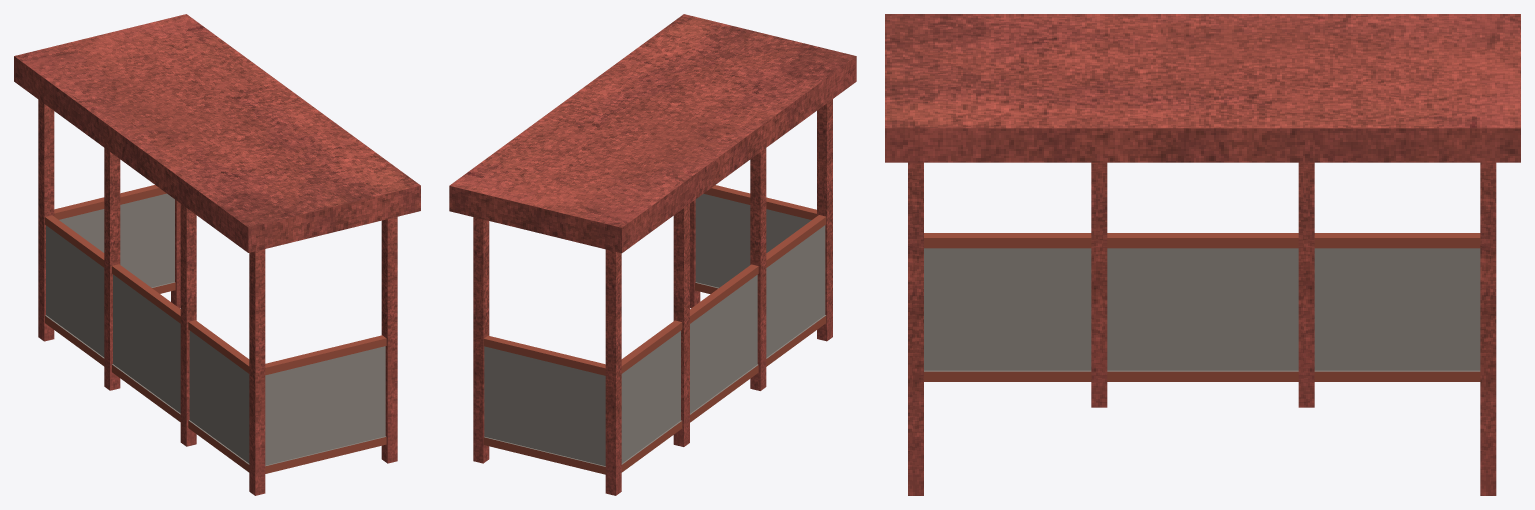
File: busstopred.glb
3 views of the same model, side by side, from view 1: azimuth 30°, elevation 25°; view 2: azimuth 150°, elevation 25°; view 3: azimuth 270°, elevation 25° (orthographic). The views are drawn at different scales.
Visible parts, largest first — view 1: top, panes, pillars; view 2: top, panes, pillars; view 3: top, panes, pillars.
Part boxes in pixels (x1,y1,x2,y2): top: (14, 14, 420, 252); panes: (45, 185, 386, 473); pillars: (38, 99, 397, 495); top: (449, 14, 856, 253); panes: (483, 185, 826, 474); pillars: (473, 99, 832, 495); top: (885, 14, 1520, 162); panes: (924, 233, 1480, 381); pillars: (908, 162, 1496, 495).
Bounding box in the file's own units: 3.4 × 5.24 × 8.
3 materials, 1 textured.
